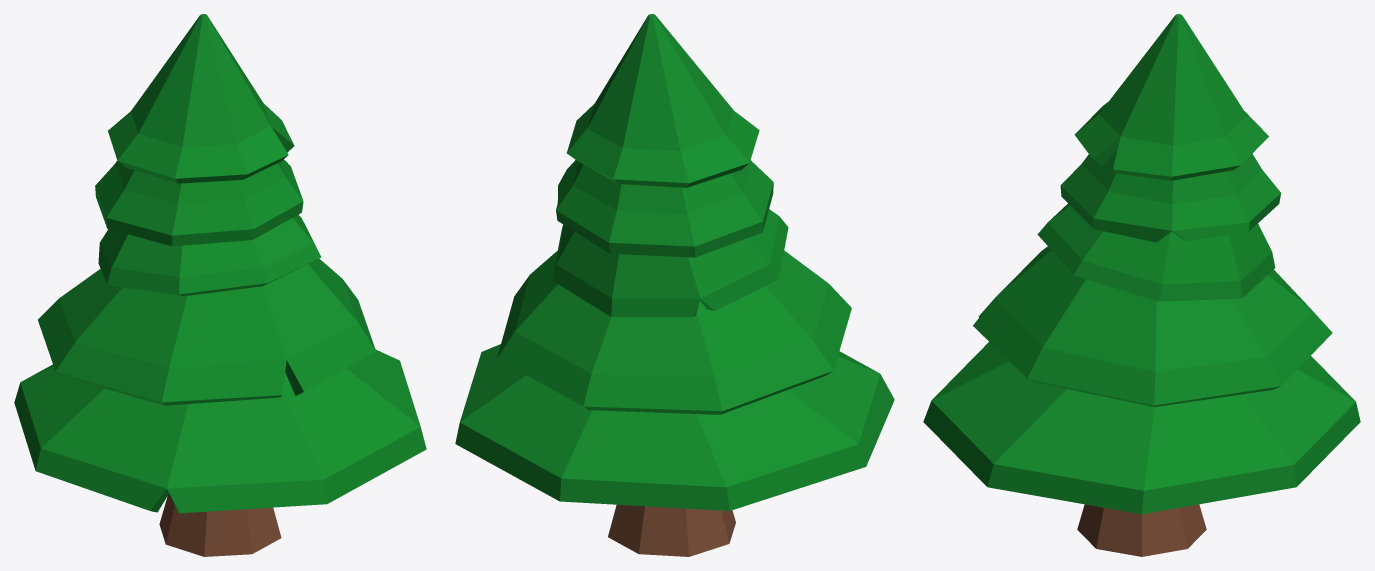
Rendered from Pinetree3.glb.
3 views of the same model, side by side, from view 1: azimuth 30°, elevation 25°; view 2: azimuth 150°, elevation 25°; view 3: azimuth 270°, elevation 25° (orthographic). The views are drawn at different scales.
Visible parts, largest first — view 1: Pine tree 3; view 2: Pine tree 3; view 3: Pine tree 3.
Part boxes in pixels (left/top/right/bottom): Pine tree 3: left=14, top=14, right=426, bottom=556; Pine tree 3: left=455, top=14, right=894, bottom=556; Pine tree 3: left=923, top=14, right=1360, bottom=556.
Size of the model in its own units: 86.97 by 113 by 86.97.
